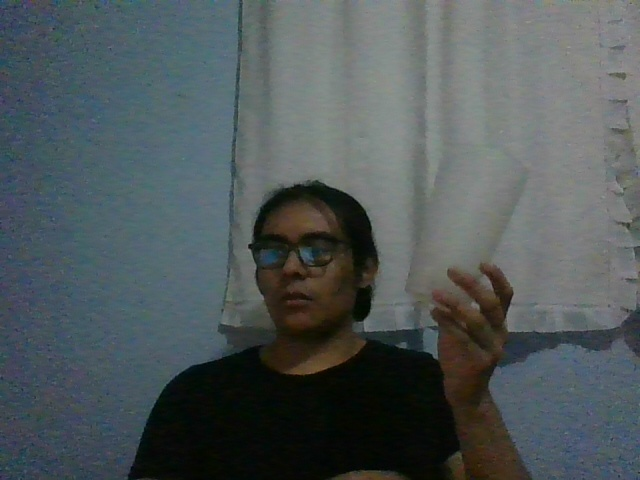vaso: (403, 141, 531, 304)
